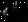person: (2, 6, 11, 19), (11, 3, 17, 12)
